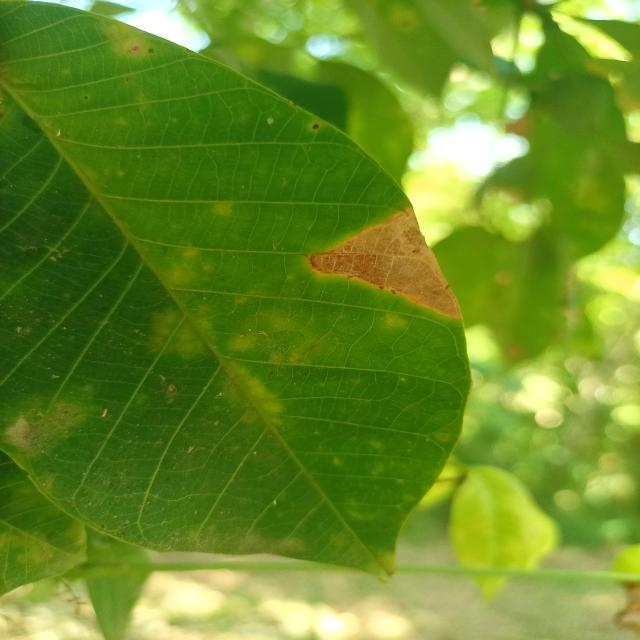Leaf-Blight: (309, 207, 462, 318)
